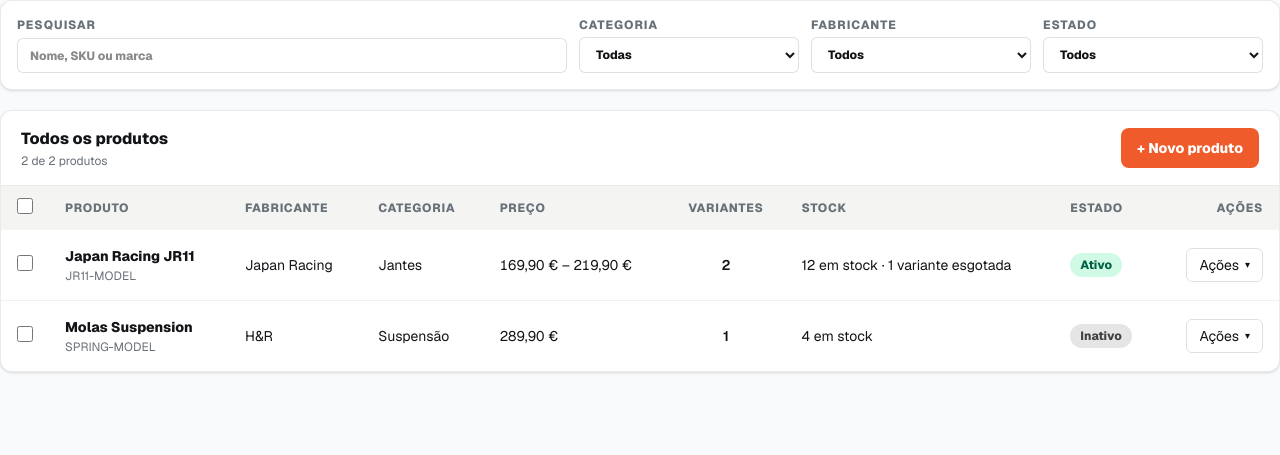
Test: ProductsClient › mostra os campos e ações por produto
Check: the heading "Todos os produtos" is shown, box [21,127,168,151]
Check: the text "Japan Racing JR11" is shown, box [65,247,195,265]
Click the button named "Ações para Japan Racing JR11". click: (1225,265)
box: [1186,248,1263,282]
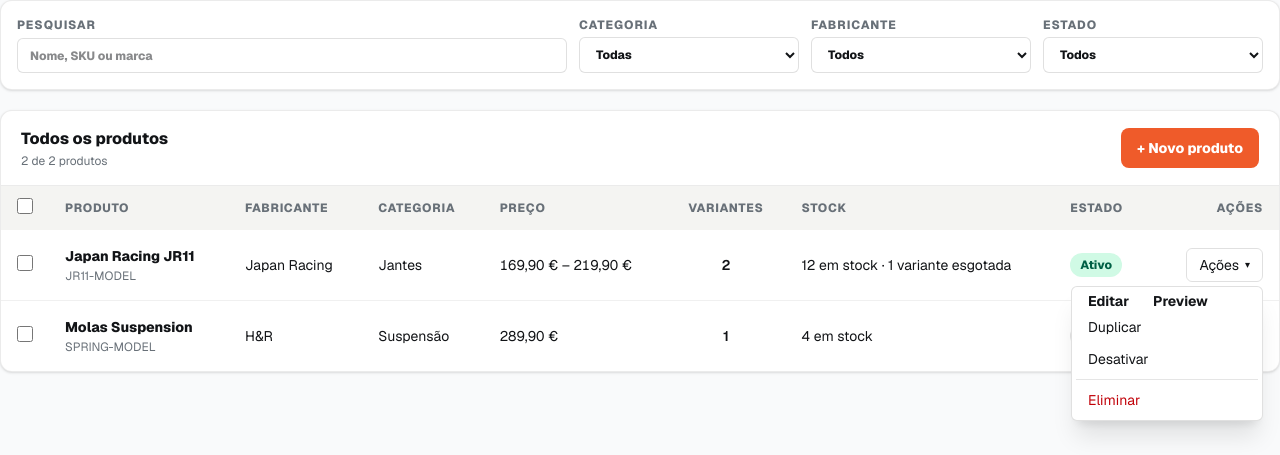
Check: the menu item "Duplicar" is shown, box [1076,311,1258,343]
Check: the menu item "Desativar" is shown, box [1076,343,1258,375]
Check: the menu item "Eliminar" is shown, box [1076,384,1258,416]
